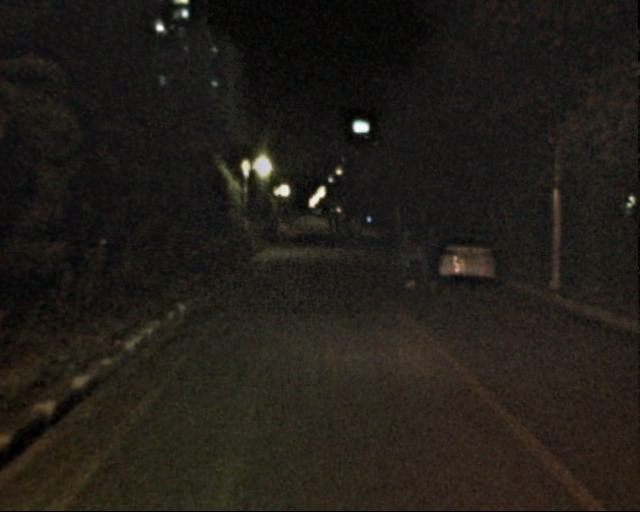person: (419, 224, 445, 288), (396, 228, 421, 290), (324, 215, 352, 240), (275, 217, 288, 248)
